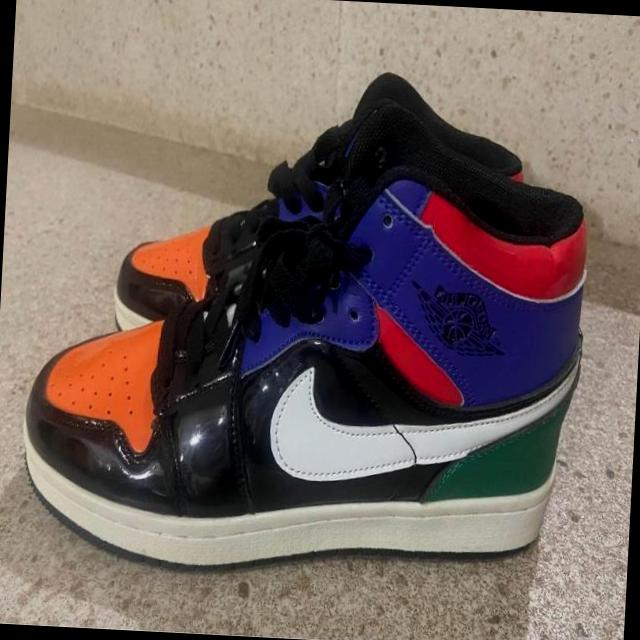nike_fake_jordan: (15, 138, 592, 590), (110, 57, 530, 356)
